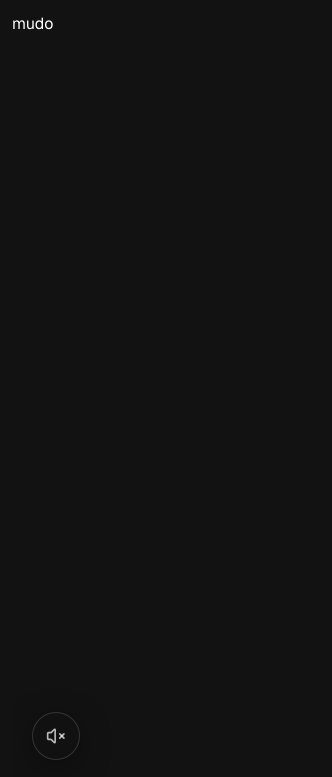
Test: ProceduralAudioProvider › cria o contexto e ativa o áudio somente após o gesto do usuário
Click the button named "Ativar áudio" at (56, 736), box [32,712,80,760]
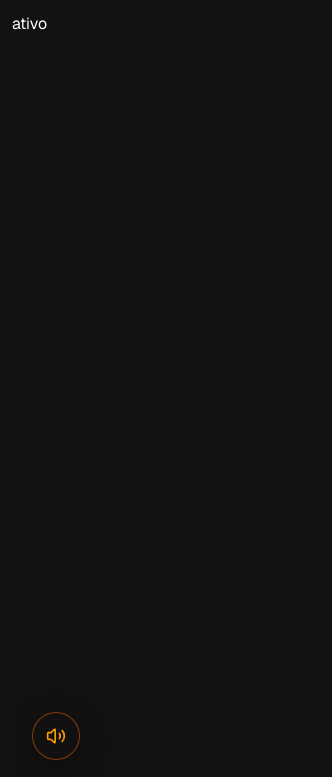
Result: the button named "Silenciar áudio" is shown at [32,712,80,760]
